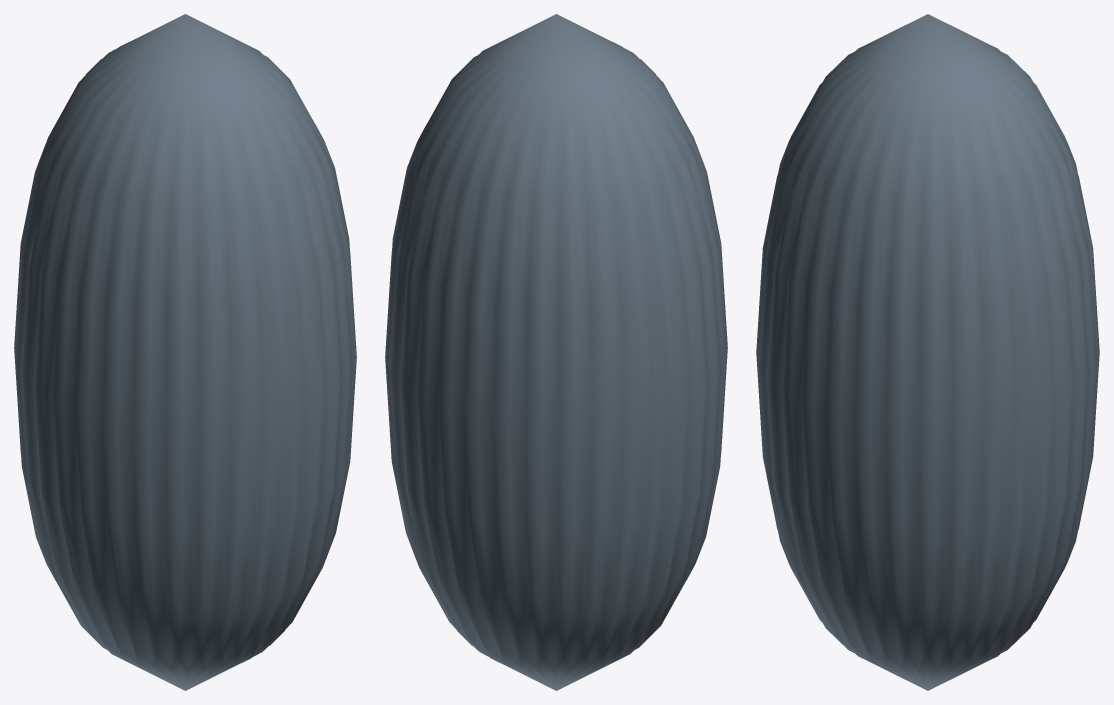
The model's file is outfit_cyber_suit_v2.glb.
The picture shows the model from 3 angles, left to right: view 1: azimuth 30°, elevation 25°; view 2: azimuth 150°, elevation 25°; view 3: azimuth 270°, elevation 25°; orthographic projection.
Parts seen in each view (by area): view 1: Cylinder; view 2: Cylinder; view 3: Cylinder.
Boxes of the visible parts, x1,y1,x2,y2 form: Cylinder: (14, 14, 356, 690); Cylinder: (385, 14, 727, 690); Cylinder: (756, 14, 1099, 690).
Size of the model in its own units: 0.5082 by 1.11 by 0.5082.
